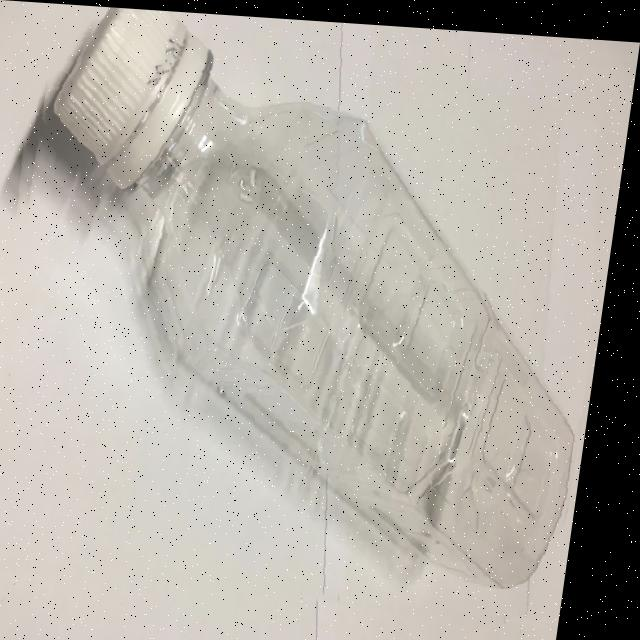litter: (0, 2, 634, 611), (23, 2, 219, 227)
